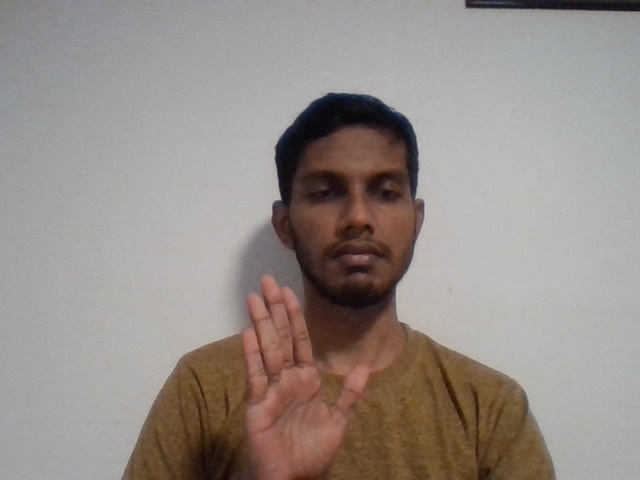hello: (212, 267, 374, 474)
